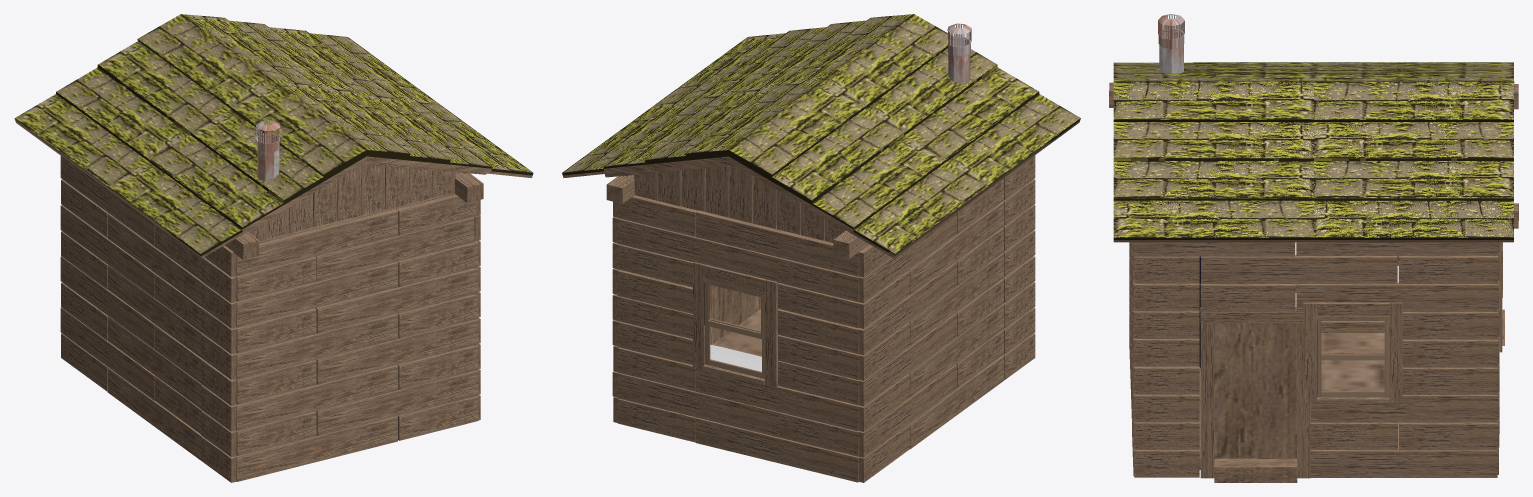
Rendered from shack.glb.
3 renders of one model, left to right at view 1: azimuth 30°, elevation 25°; view 2: azimuth 150°, elevation 25°; view 3: azimuth 270°, elevation 25°, orthographic. The views are drawn at different scales.
Parts seen in each view (by area): view 1: Shack, Roof, Cube.002; view 2: Shack, Roof, Cube.002, Cube.142; view 3: Shack, Roof, Cube.002.
Part boxes in pixels (left/top/right/bottom): Shack: left=60, top=156, right=483, bottom=482; Roof: left=14, top=14, right=533, bottom=258; Cube.002: left=256, top=120, right=280, bottom=181; Shack: left=606, top=155, right=1035, bottom=482; Roof: left=562, top=14, right=1080, bottom=258; Cube.002: left=947, top=23, right=971, bottom=84; Cube.142: left=710, top=344, right=761, bottom=371; Shack: left=1109, top=82, right=1518, bottom=482; Roof: left=1113, top=62, right=1514, bottom=242; Cube.002: left=1158, top=14, right=1184, bottom=73.
Bounding box in the file's own units: 3.14 × 2.99 × 3.09.
Materials: 5 (4 with a texture image).
